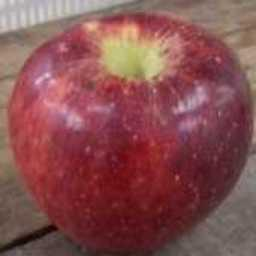apple: (6, 11, 254, 251)
